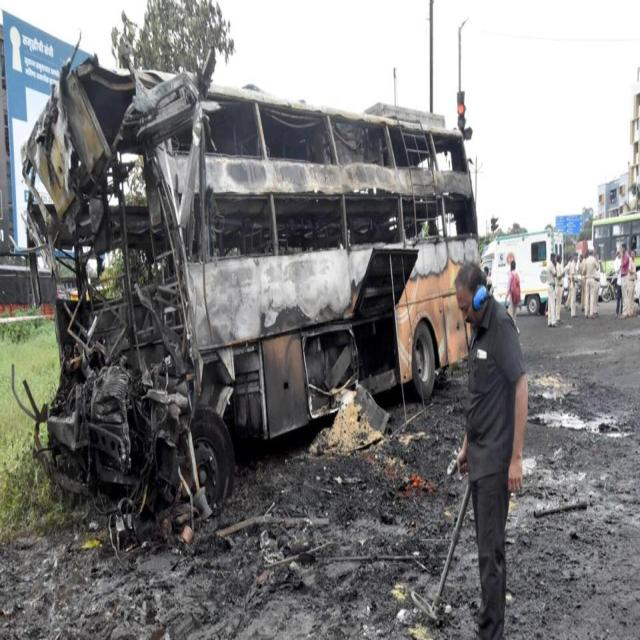accident: (21, 51, 479, 514)
emergency: (481, 229, 562, 313)
